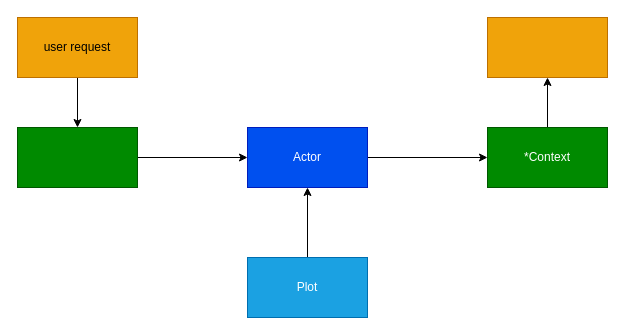
The diagram is 625 pixels wide and 335 high, and some of its shapes have lost their labels. The box of each missing label's shape, as (x1, y1, x2, y2) in pixels:
actor response: (486, 16, 608, 78)
Context: (16, 126, 138, 188)
